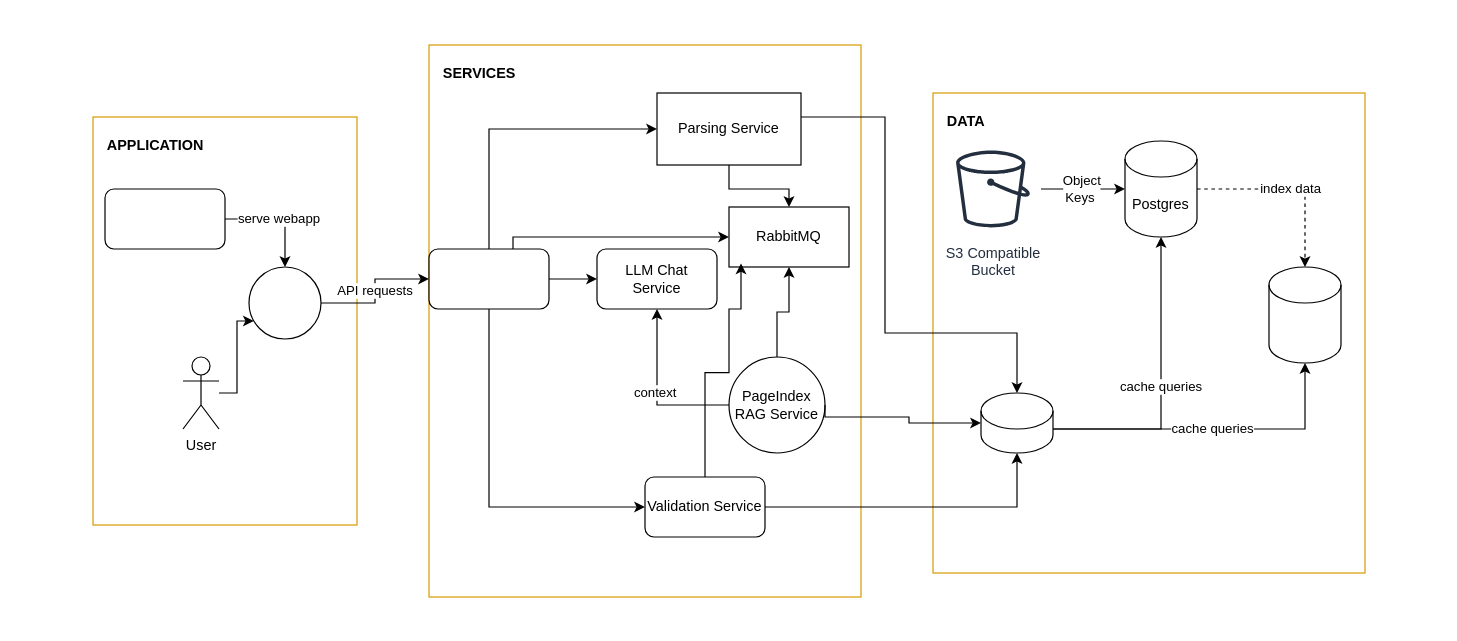
Some shapes in this 1457 by 641 pixel diagram are drawn without their labels. The shapes that lost their labels are listed below. From the top down, each one's box as (x1, y1, x2, y2) in pixels, then its label:
(104, 188, 225, 249): Web Service
(428, 248, 549, 309): API Service
(248, 266, 321, 339): Web Browser
(1268, 266, 1341, 363): Elastic- search
(980, 392, 1053, 453): Redis
